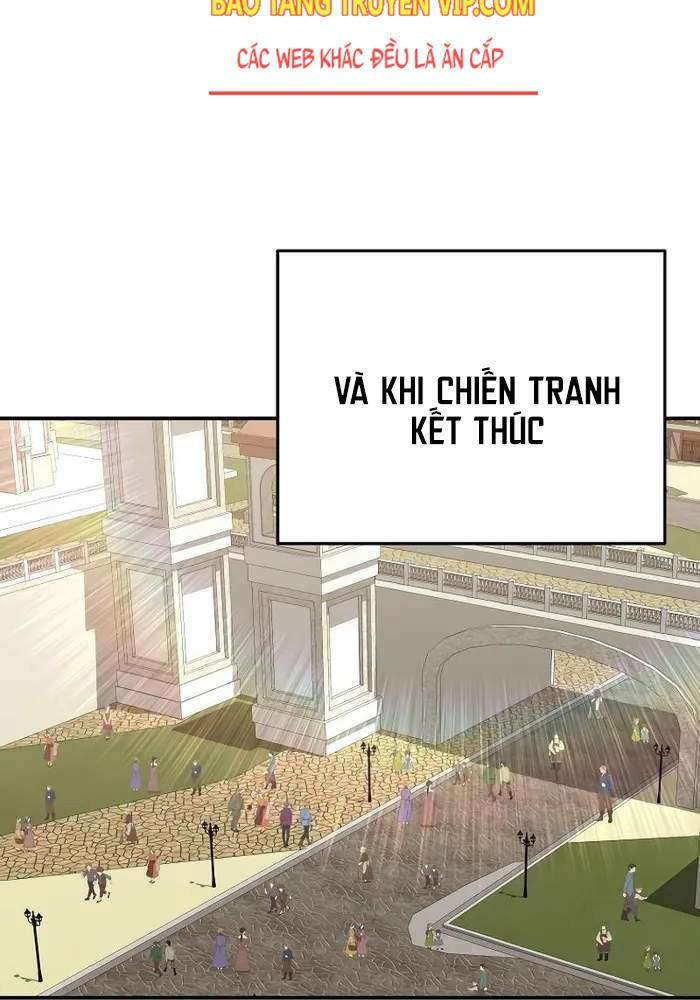quangcao: (204, 0, 537, 99)
